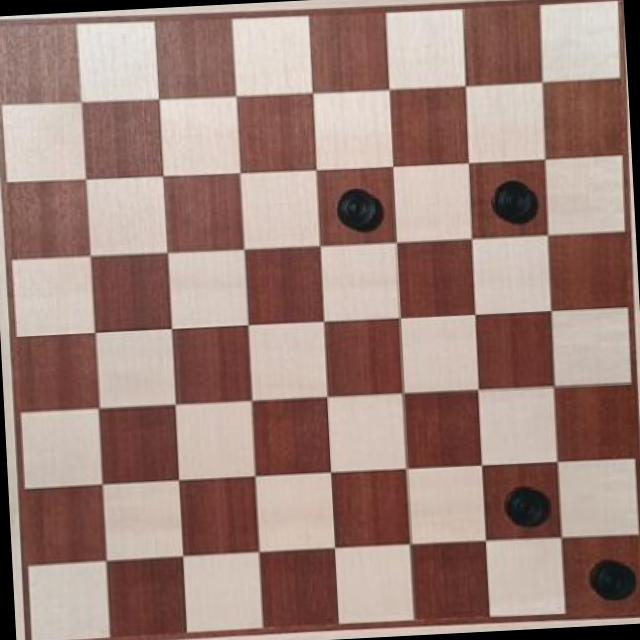BOARD: (0, 0, 640, 640)
black: (322, 176, 388, 240), (498, 476, 554, 535), (485, 167, 538, 227), (583, 548, 638, 604)
